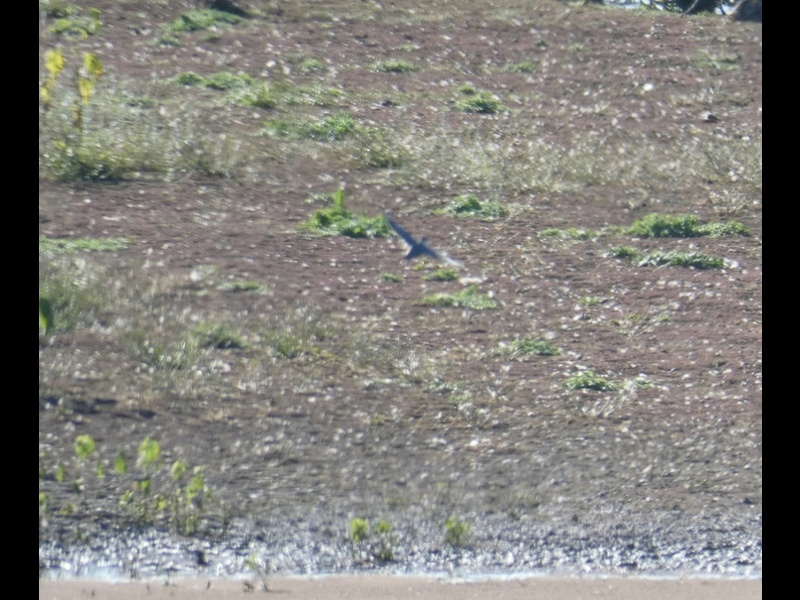kingfisher: (381, 214, 463, 277)
